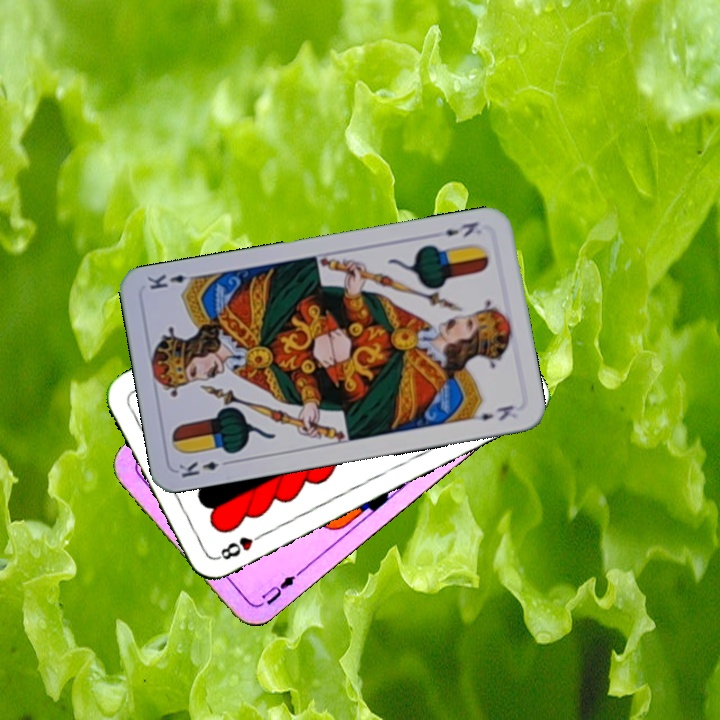EK: (175, 456, 234, 481), (442, 217, 481, 240)
EU: (253, 567, 303, 610)
H8: (213, 528, 268, 563)
